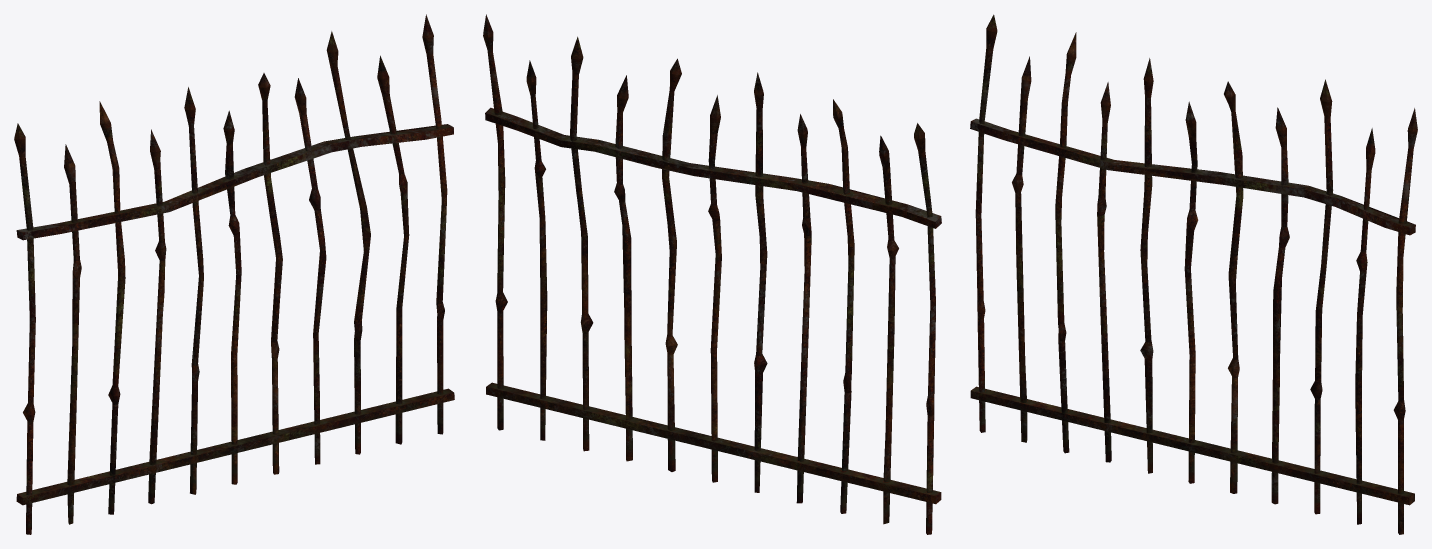
The model's file is SM_fence_30.fbx.
The picture shows the model from 3 angles, left to right: view 1: azimuth 30°, elevation 25°; view 2: azimuth 150°, elevation 25°; view 3: azimuth 330°, elevation 25°; orthographic projection. The views are drawn at different scales.
Visible parts, largest first — view 1: SM_fence_30; view 2: SM_fence_30; view 3: SM_fence_30.
Part boxes in pixels (<box>): SM_fence_30: <box>14,14,454,534</box>; SM_fence_30: <box>483,14,941,534</box>; SM_fence_30: <box>970,14,1417,534</box>.
Size of the model in its own units: 341 by 311 by 42.12.
